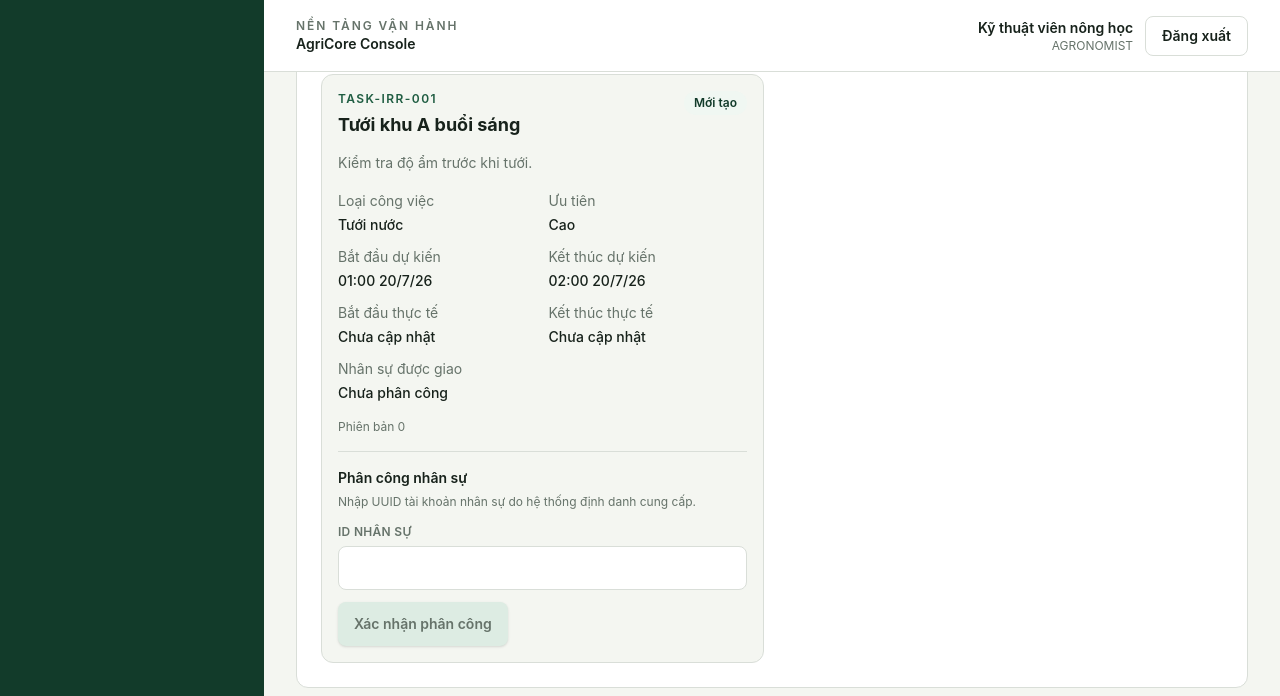
work-task assignment workspace › keeps the employee draft and does not retry a terminal-state conflict
(page scrolled)
Expected: the heading "Tưới khu A buổi sáng" is shown, [338, 111, 520, 139]
Type "10000000-0000-0000-0000-000000000019" into the field labelled "ID nhân sự" at (542, 568), box [338, 546, 747, 590]
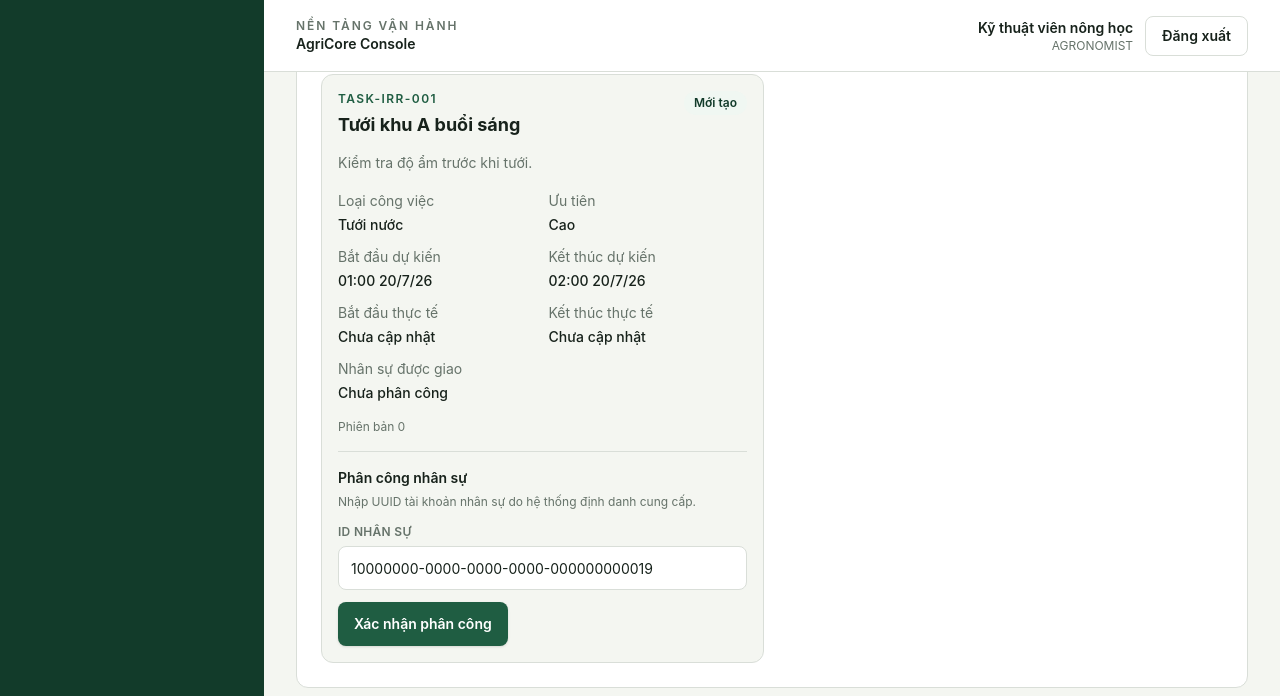
Click the button "Xác nhận phân công" at (423, 624), box [338, 602, 508, 646]
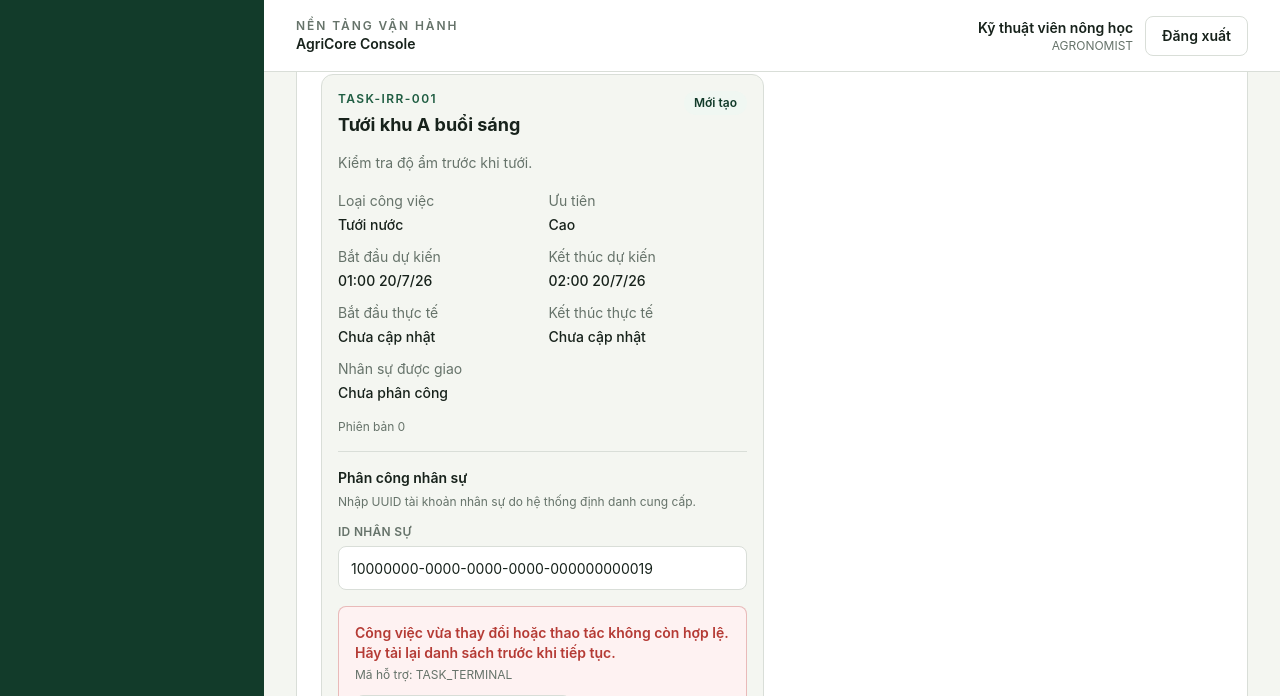
Expected: the message named "Không thể phân công công việc" shows "TASK_TERMINAL", [416, 667, 512, 682]
